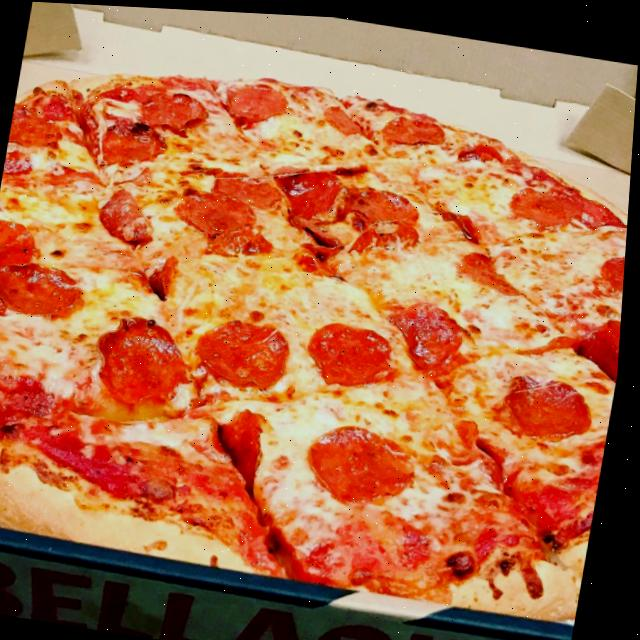pepperoni: (92, 309, 202, 410), (307, 416, 425, 508), (509, 159, 633, 232), (196, 312, 298, 389), (202, 397, 278, 491), (308, 315, 403, 388), (504, 367, 601, 438), (9, 74, 92, 153), (386, 293, 471, 368), (0, 257, 91, 321), (173, 185, 262, 241), (274, 161, 346, 219), (100, 116, 170, 171), (222, 76, 291, 129), (346, 180, 425, 225), (576, 308, 625, 379), (204, 212, 278, 259), (140, 86, 212, 133), (458, 244, 528, 291), (212, 169, 287, 208), (98, 185, 148, 241), (0, 215, 43, 279), (382, 110, 448, 145), (439, 205, 485, 238), (322, 101, 365, 133), (600, 237, 629, 283), (459, 134, 507, 161), (301, 234, 346, 260)
pizza: (0, 38, 638, 618)
